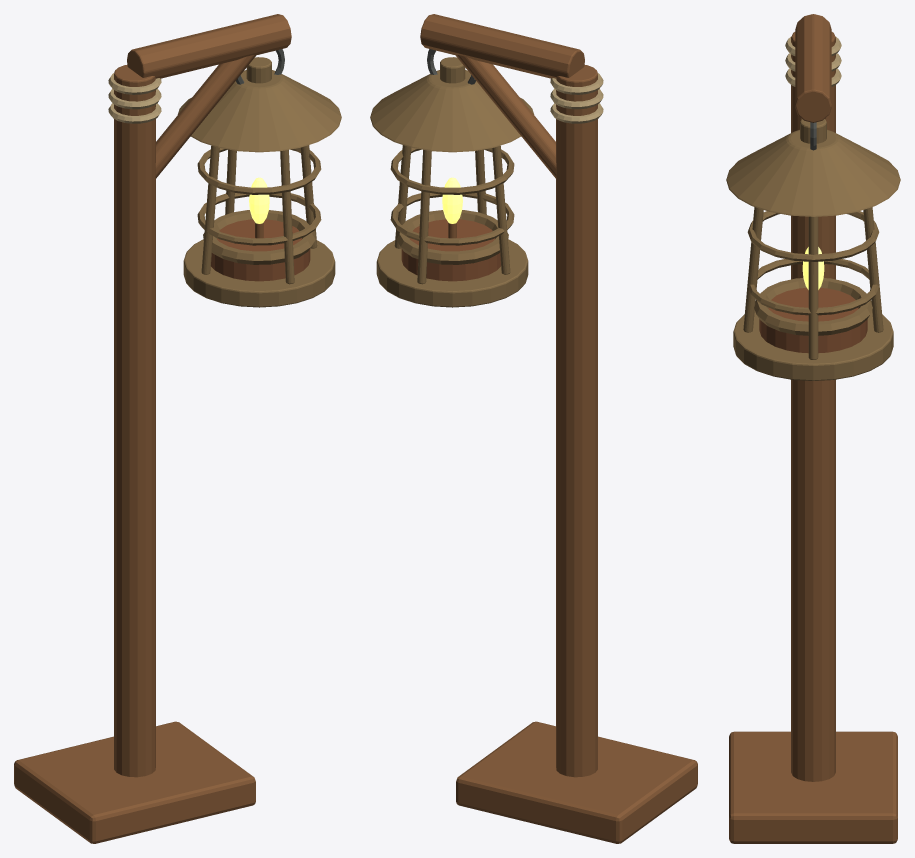
The model's file is CampOilLamp.fbx.
The picture shows the model from 3 angles, left to right: view 1: azimuth 30°, elevation 25°; view 2: azimuth 150°, elevation 25°; view 3: azimuth 270°, elevation 25°; orthographic projection. The views are drawn at different scales.
Visible parts, largest first — view 1: CampOilLamp; view 2: CampOilLamp; view 3: CampOilLamp.
Part boxes in pixels (box(x1,y1,x2,y2)): CampOilLamp: box(14, 14, 341, 843); CampOilLamp: box(370, 14, 697, 843); CampOilLamp: box(726, 14, 900, 843).
Bounding box in the file's own units: 80.68 × 206 × 41.36.
